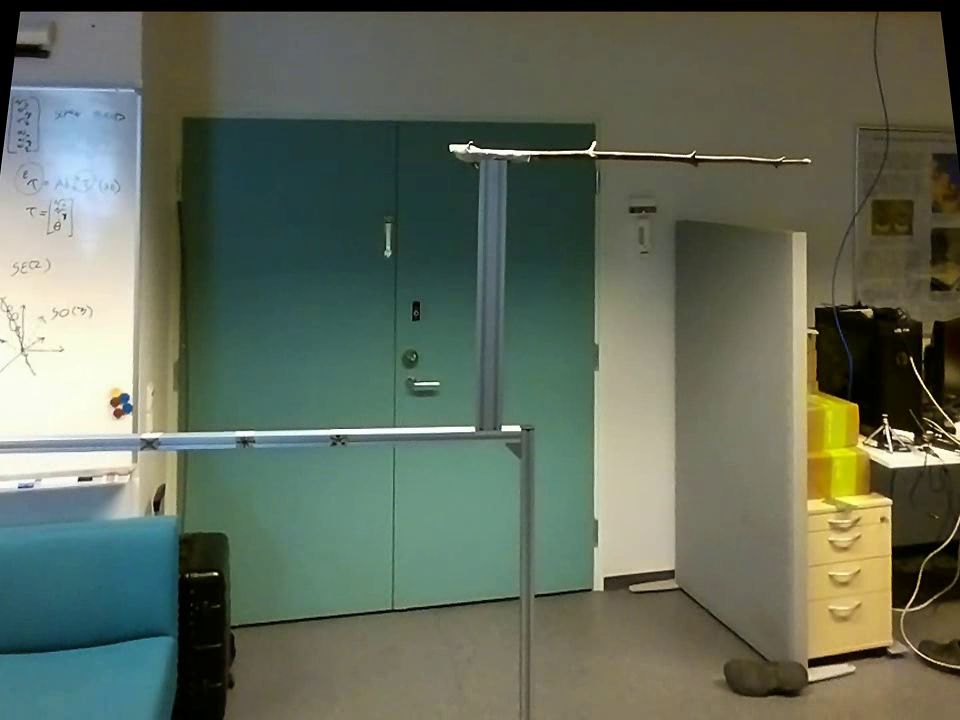aluminum_frame: (0, 413, 524, 461), (472, 162, 510, 431), (510, 420, 540, 714), (129, 82, 147, 469), (1, 453, 143, 498), (11, 79, 153, 98)
branch: (536, 137, 803, 174)
